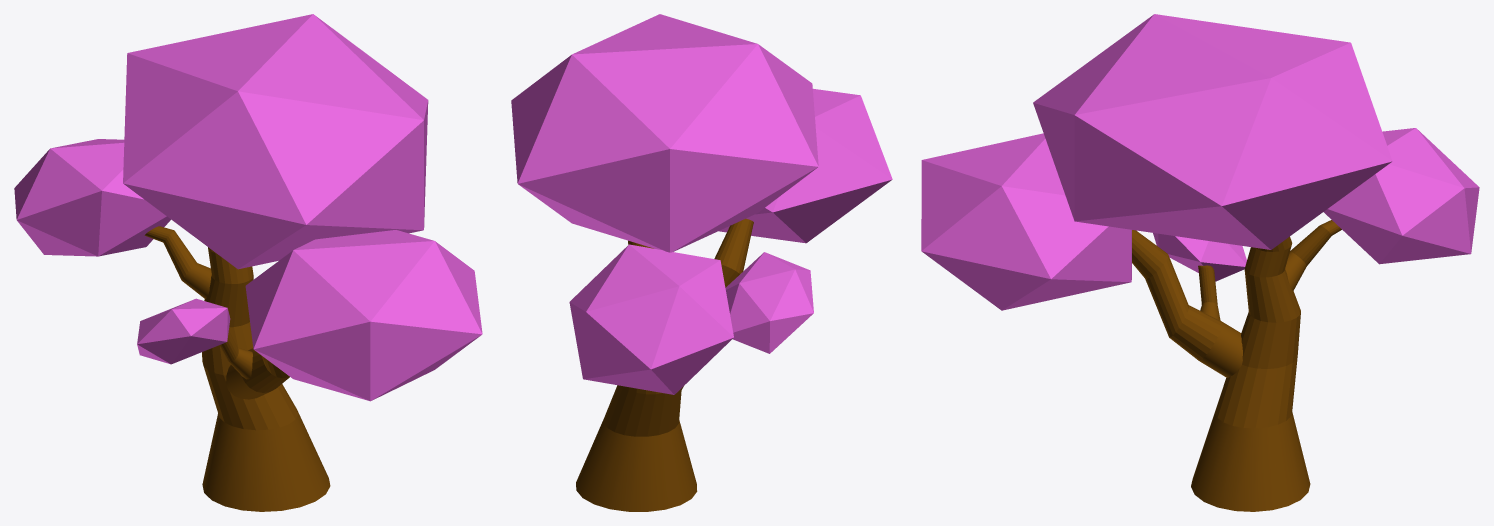
File: TT_Tree.fbx
3 renders of one model, left to right at view 1: azimuth 30°, elevation 25°; view 2: azimuth 150°, elevation 25°; view 3: azimuth 270°, elevation 25°, orthographic. The views are drawn at different scales.
Parts seen in each view (by area): view 1: Tree; view 2: Tree; view 3: Tree.
Part boxes in pixels (x1,y1,x2,y2): Tree: (14, 14, 482, 511); Tree: (511, 14, 892, 511); Tree: (921, 14, 1479, 511).
Size of the model in its own units: 404 by 537 by 626.
